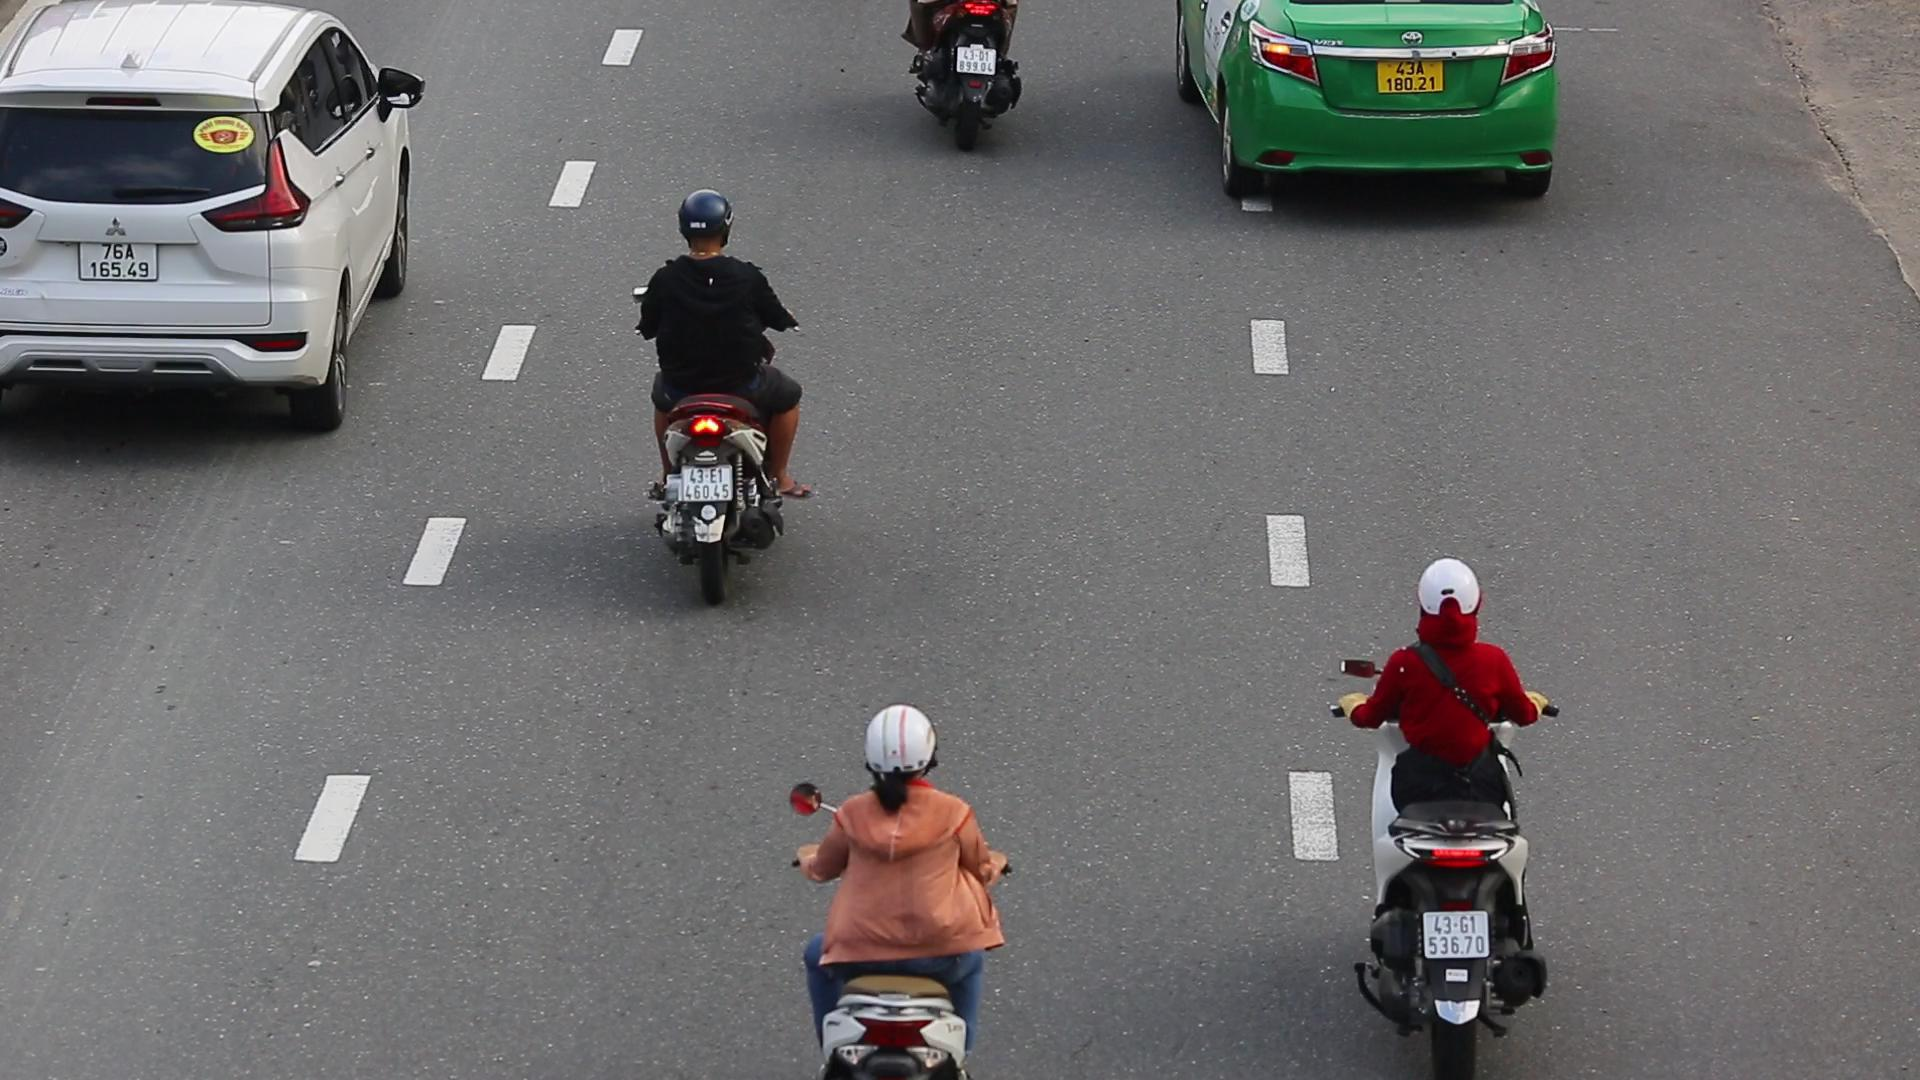motobike: (1304, 555, 1564, 1080), (757, 691, 1022, 1080), (607, 170, 822, 605)
